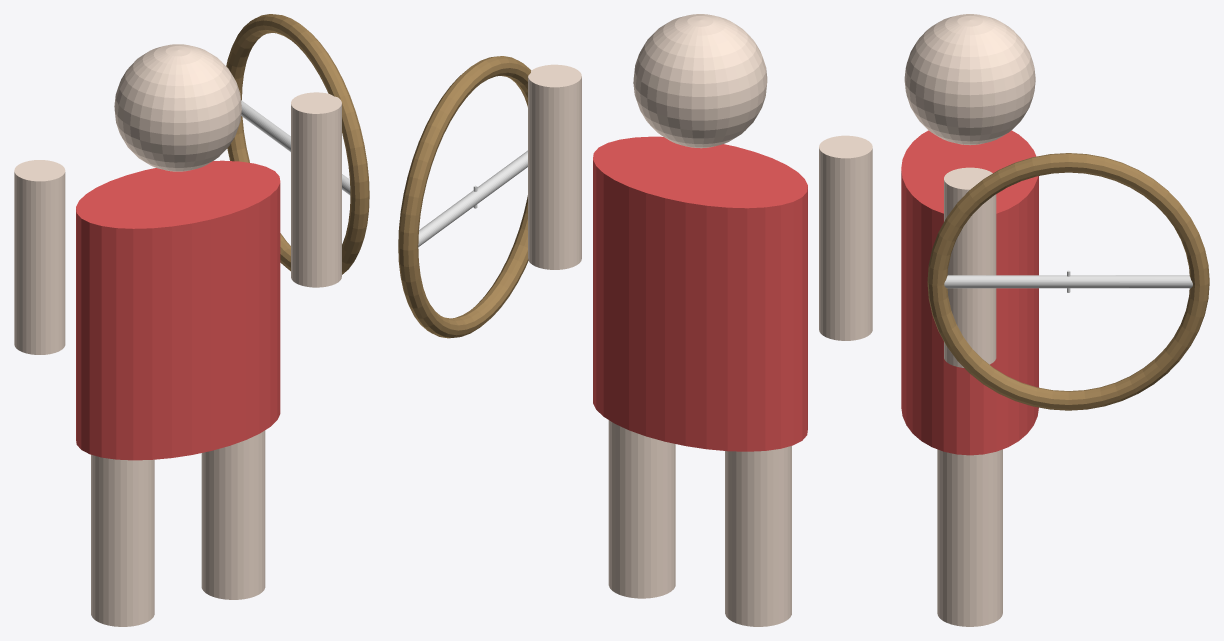
File: Hero_HouYi.fbx
3 views of the same model, side by side, from view 1: azimuth 30°, elevation 25°; view 2: azimuth 150°, elevation 25°; view 3: azimuth 270°, elevation 25° (orthographic). The views are drawn at different scales.
Parts seen in each view (by area): view 1: Torso, Head, LeftLeg, RightLeg, LeftArm, RightArm, Bow, Arrow; view 2: Torso, Head, LeftLeg, RightLeg, LeftArm, RightArm, Bow, Arrow; view 3: Torso, Bow, Head, RightLeg, RightArm, Arrow.
Boxes of the visible parts, x1,y1,x2,y2 form: Torso: (76,160,280,460); Head: (114,44,241,171); LeftLeg: (91,454,154,626); RightLeg: (201,430,265,599); LeftArm: (14,160,65,354); RightArm: (291,92,341,287); Bow: (226,14,369,274); Arrow: (241,100,350,195); Torso: (593,136,807,451); Head: (633,14,767,148); LeftLeg: (725,446,791,626); RightLeg: (608,420,675,598); LeftArm: (819,135,872,340); RightArm: (528,64,581,269); Bow: (398,56,531,338); Arrow: (418,150,527,246); Torso: (901,130,1038,455); Bow: (927,153,1209,410); Head: (904,14,1035,145); RightLeg: (937,449,1002,626); RightArm: (944,167,996,367); Arrow: (944,275,1192,288).
Size of the model in its own units: 1.21 by 1.9 by 0.94.
